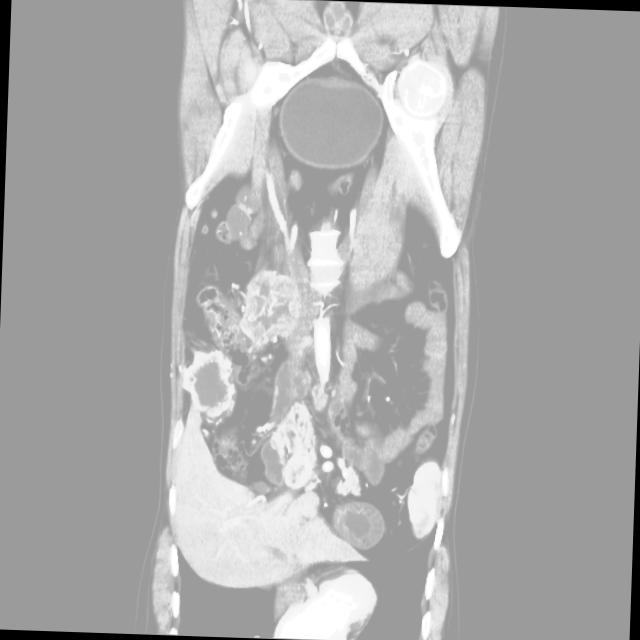TUMOR: (76, 172, 551, 410)
